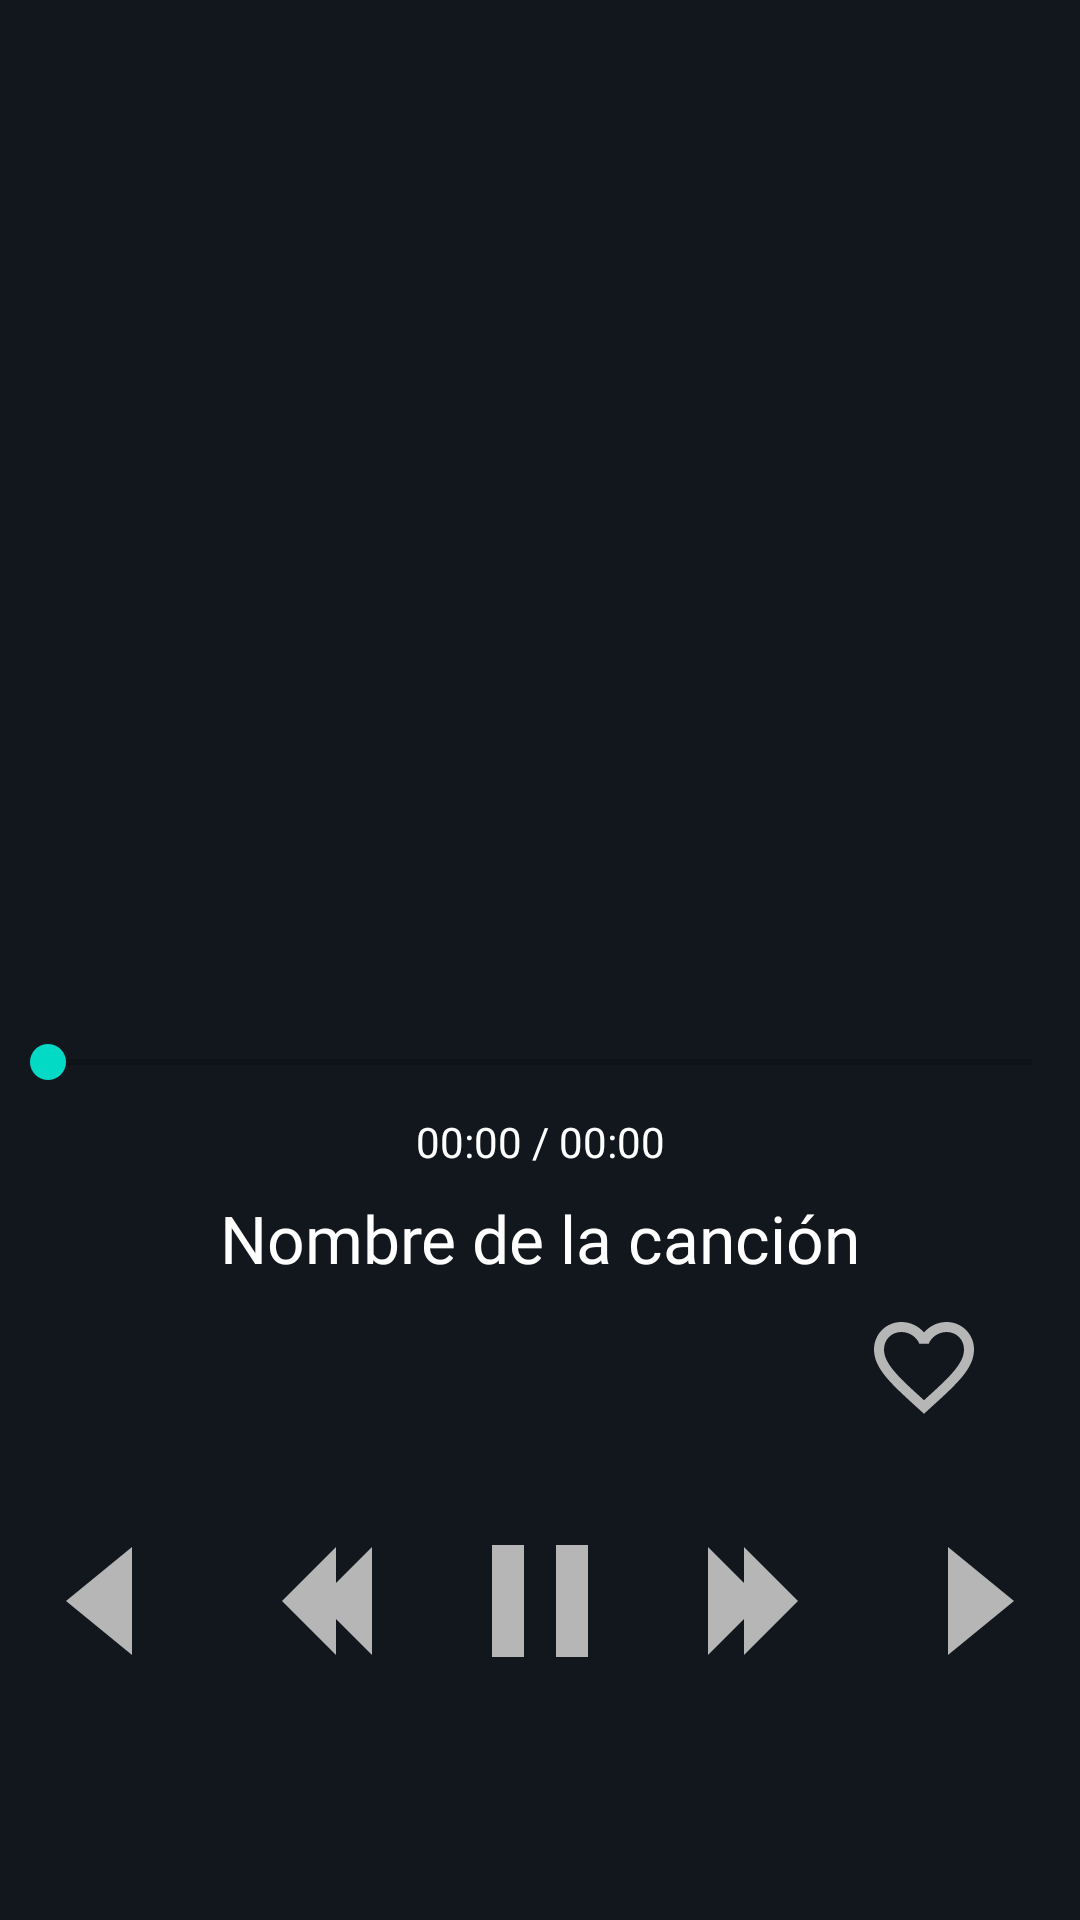

Where to tap for icons on this 1080w x 1920h app screen, as (x=x, y=y):
nofavorite: (x=924, y=1368)
Reproducir/Pausa: (x=540, y=1601)
